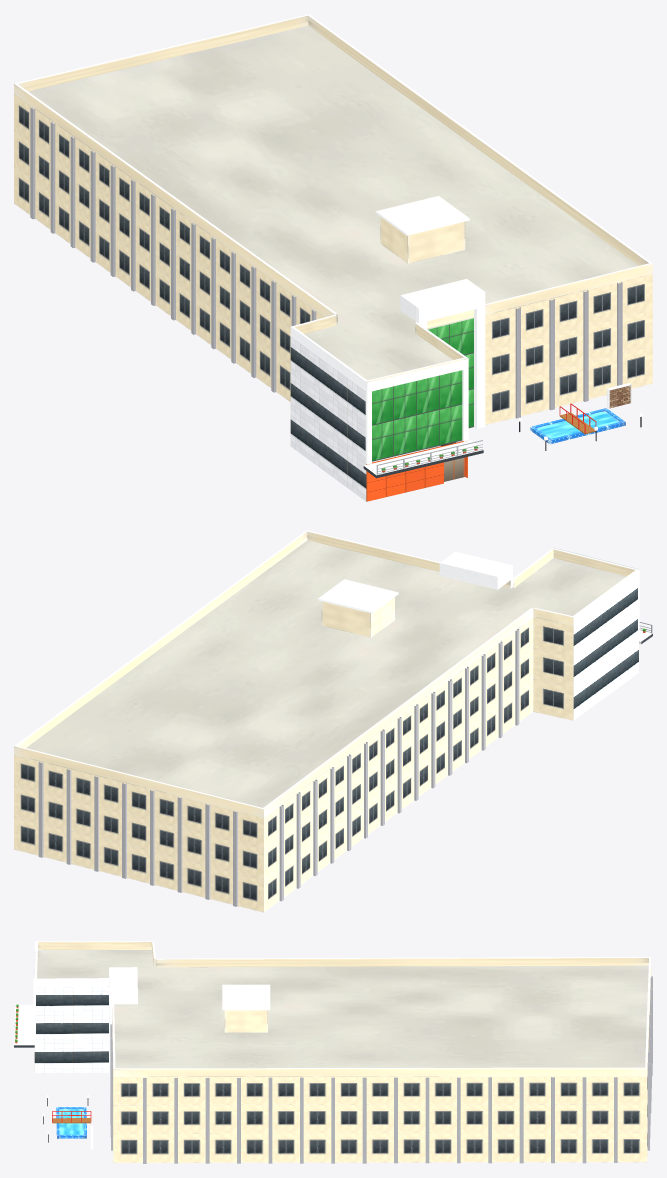
The model's file is fibre-polymer.glb.
3 renders of one model, top to bottom at view 1: azimuth 30°, elevation 25°; view 2: azimuth 150°, elevation 25°; view 3: azimuth 270°, elevation 25°, orthographic. The views are drawn at different scales.
Visible parts, largest first — view 1: Fibre & Polymer; view 2: Fibre & Polymer; view 3: Fibre & Polymer.
Boxes of the visible parts, <box> form: Fibre & Polymer: <box>14,14,652,501</box>; Fibre & Polymer: <box>14,530,652,912</box>; Fibre & Polymer: <box>14,941,652,1163</box>.
Bounding box in the file's own units: 35.77 × 14.2 × 74.17.
Materials: 1 (1 with a texture image).
